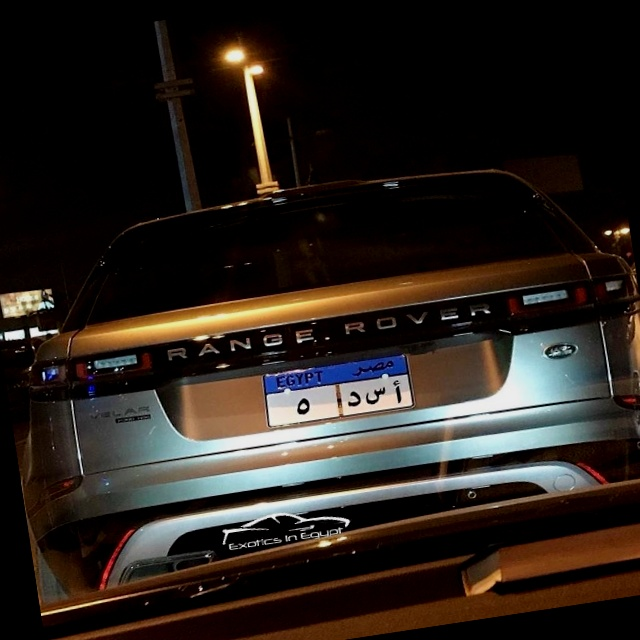License Plate: (255, 348, 421, 433)
